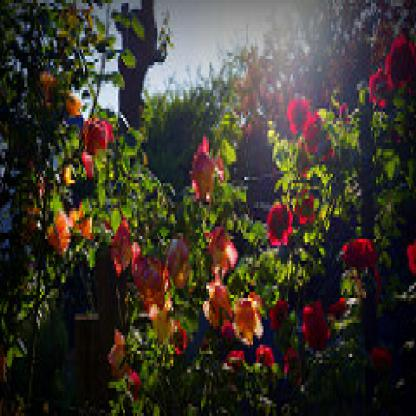Rose-Mawar: (209, 225, 273, 371), (112, 218, 190, 302), (263, 194, 332, 256), (367, 32, 415, 113), (285, 91, 334, 166), (183, 138, 221, 212), (344, 225, 388, 284), (49, 197, 93, 253), (79, 113, 115, 175), (299, 290, 334, 339)
